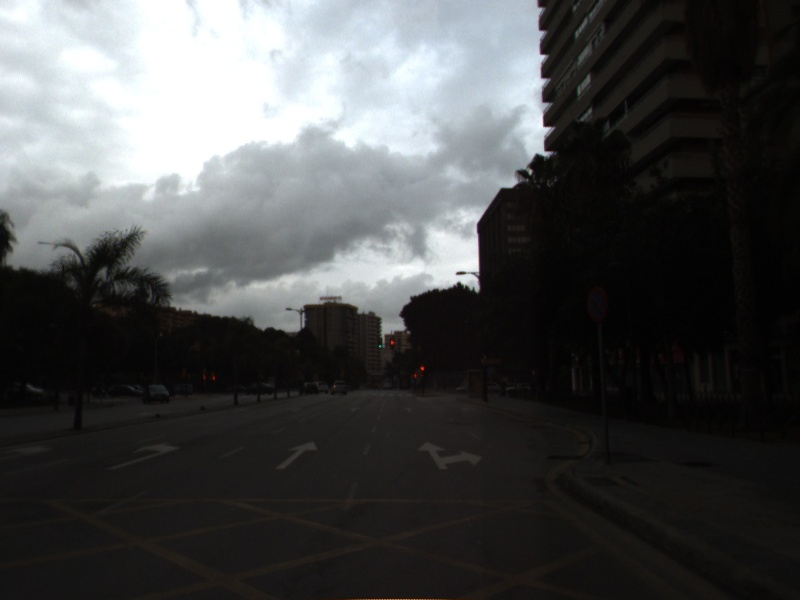LEFT: (103, 439, 184, 473), (2, 439, 56, 463)
STRAIGHT: (273, 439, 320, 471)
STRAIGHT_RIGHT: (415, 439, 485, 472)
